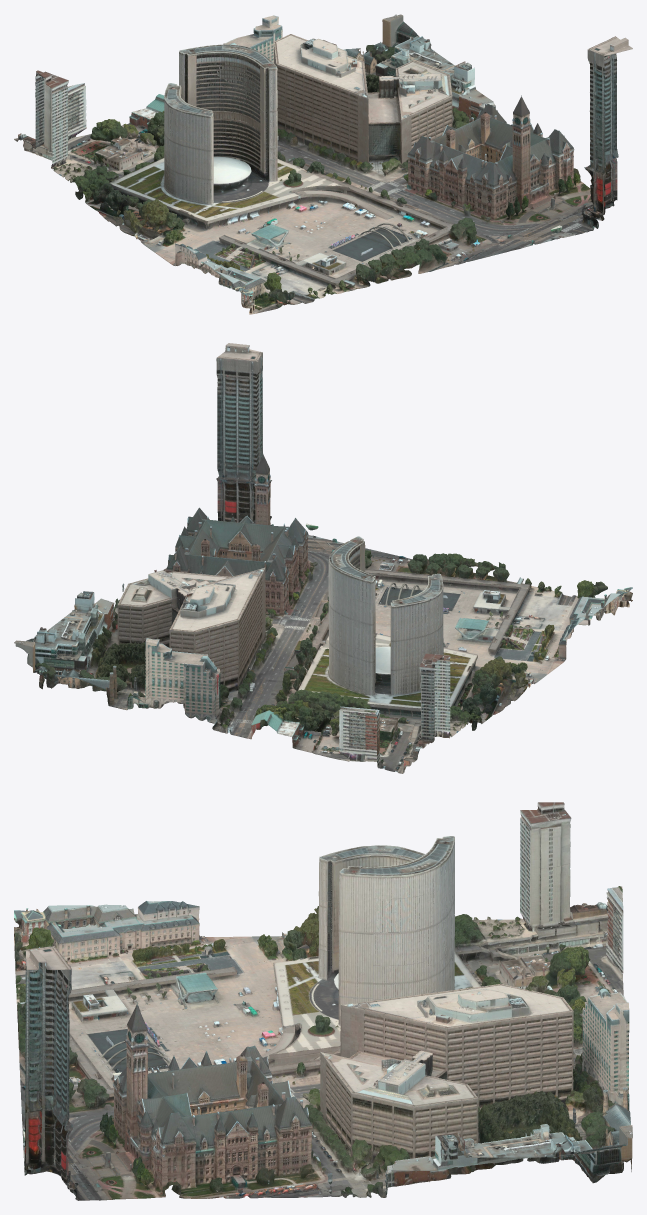
3 views of the same model, one above another, from view 1: azimuth 30°, elevation 25°; view 2: azimuth 150°, elevation 25°; view 3: azimuth 270°, elevation 25° (orthographic). The views are drawn at different scales.
Parts seen in each view (by area): view 1: toronto_canada_sample_3, toronto_canada_sample_4, toronto_canada_sample_2, toronto_canada_sample_1, toronto_canada_sample_5; view 2: toronto_canada_sample_1, toronto_canada_sample_2, toronto_canada_sample_4, toronto_canada_sample_3, toronto_canada_sample_5; view 3: toronto_canada_sample_3, toronto_canada_sample_1, toronto_canada_sample_4, toronto_canada_sample_2, toronto_canada_sample_5.
Boxes of the visible parts, left/top/right/bottom form: toronto_canada_sample_3: left=130, top=58, right=533, bottom=270; toronto_canada_sample_4: left=188, top=95, right=613, bottom=314; toronto_canada_sample_2: left=72, top=44, right=495, bottom=235; toronto_canada_sample_1: left=14, top=14, right=439, bottom=182; toronto_canada_sample_5: left=485, top=36, right=632, bottom=252; toronto_canada_sample_1: left=14, top=589, right=468, bottom=773; toronto_canada_sample_2: left=51, top=545, right=523, bottom=730; toronto_canada_sample_4: left=163, top=453, right=632, bottom=645; toronto_canada_sample_3: left=113, top=535, right=578, bottom=694; toronto_canada_sample_5: left=216, top=343, right=365, bottom=557; toronto_canada_sample_3: left=166, top=857, right=379, bottom=1198; toronto_canada_sample_1: left=469, top=802, right=632, bottom=1183; toronto_canada_sample_4: left=14, top=901, right=227, bottom=1200; toronto_canada_sample_2: left=317, top=836, right=531, bottom=1197; toronto_canada_sample_5: left=22, top=946, right=76, bottom=1199.
Bounding box in the file's own units: 3.4 × 1.47 × 3.38.
Materials: 5 (5 with a texture image).
